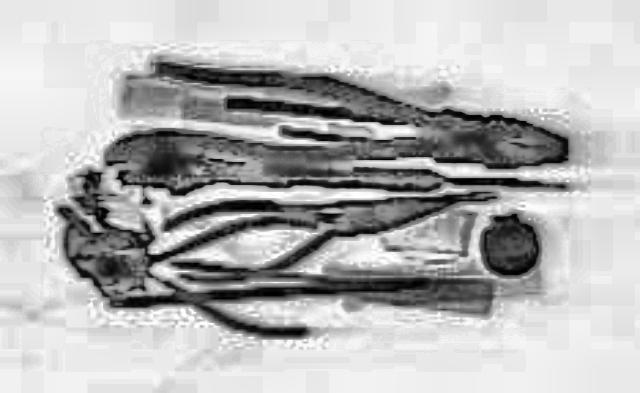Pliers: (120, 49, 586, 191), (143, 156, 513, 284), (91, 201, 332, 337)
